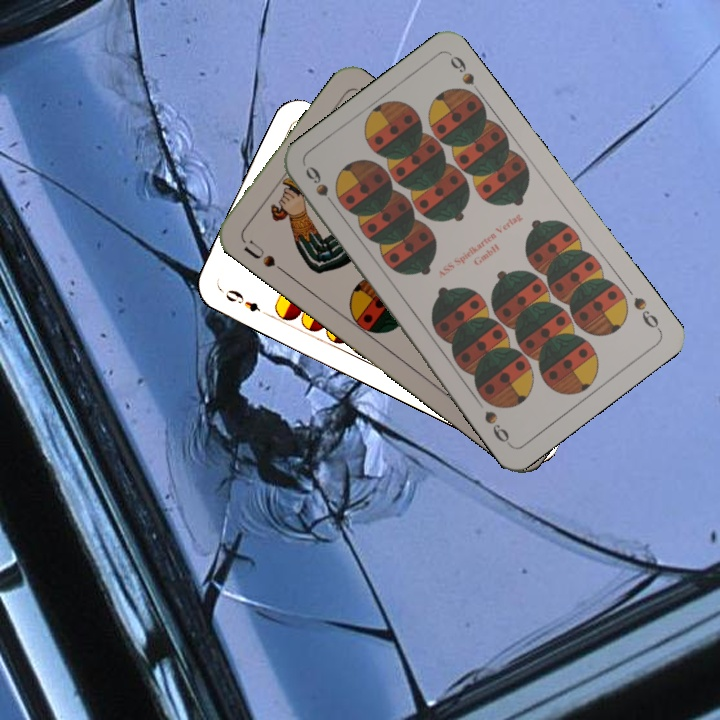E9: (216, 284, 271, 319)
S9: (301, 162, 342, 214), (629, 293, 664, 334)
SU: (238, 235, 289, 276)
